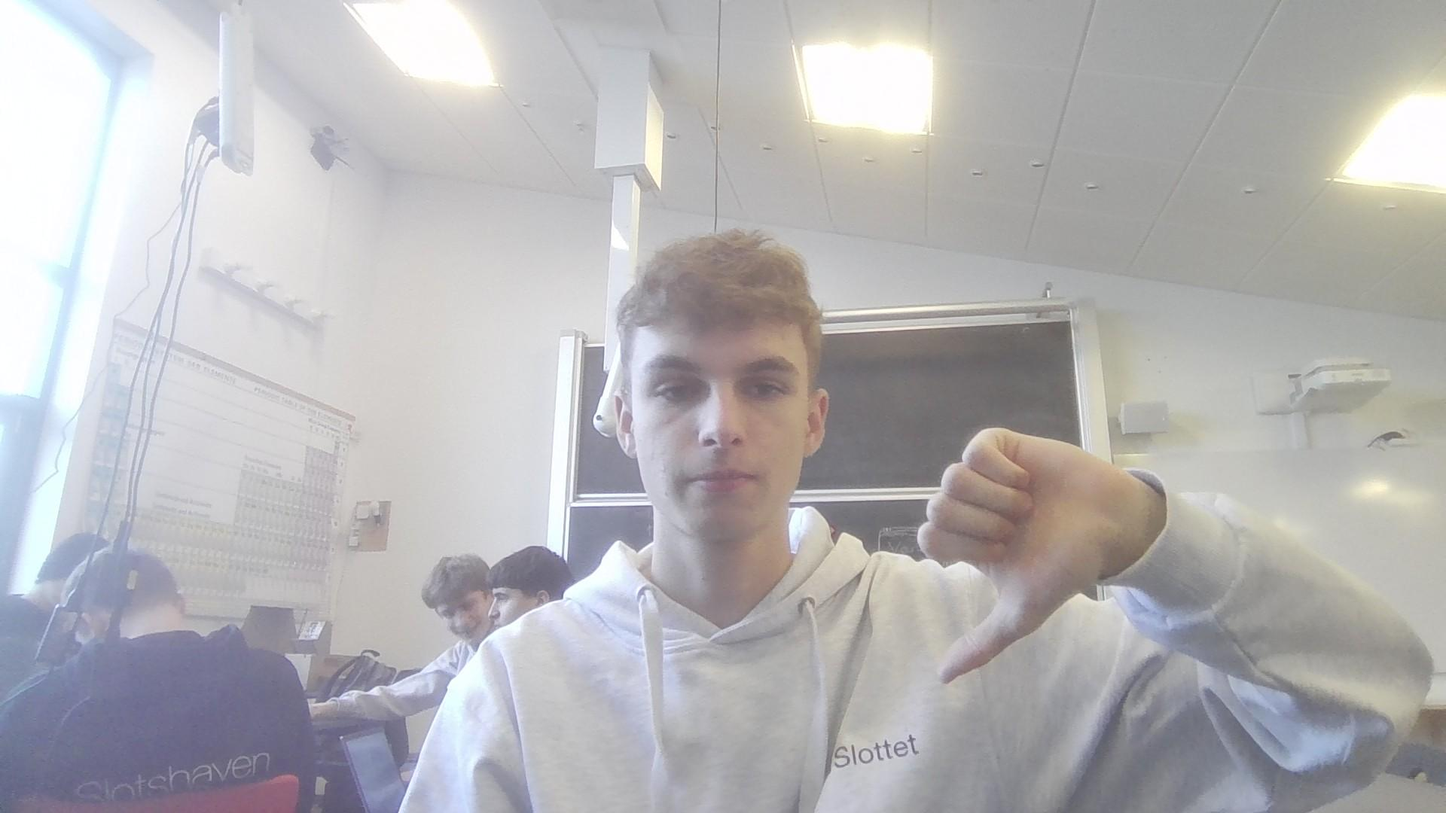thumbs down: (892, 411, 1133, 687)
